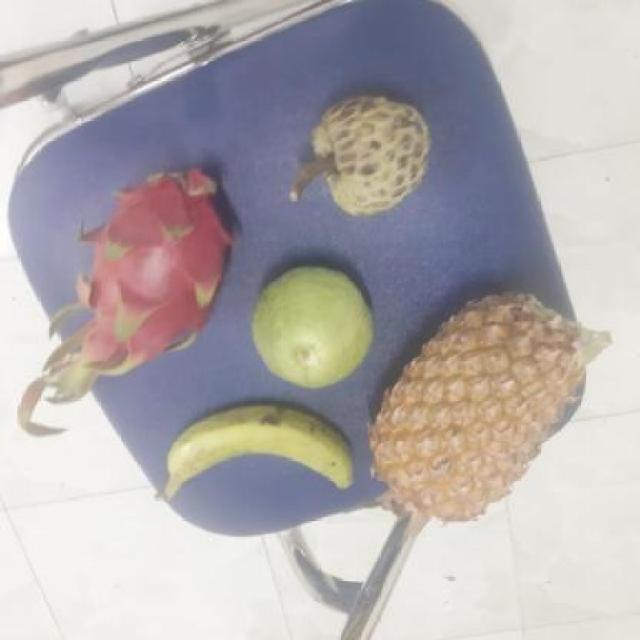banana: (166, 402, 368, 500)
dragon fruit: (59, 166, 244, 366)
guava: (251, 265, 384, 386)
pineapple: (376, 285, 590, 513)
sugar apple: (303, 95, 439, 216)
